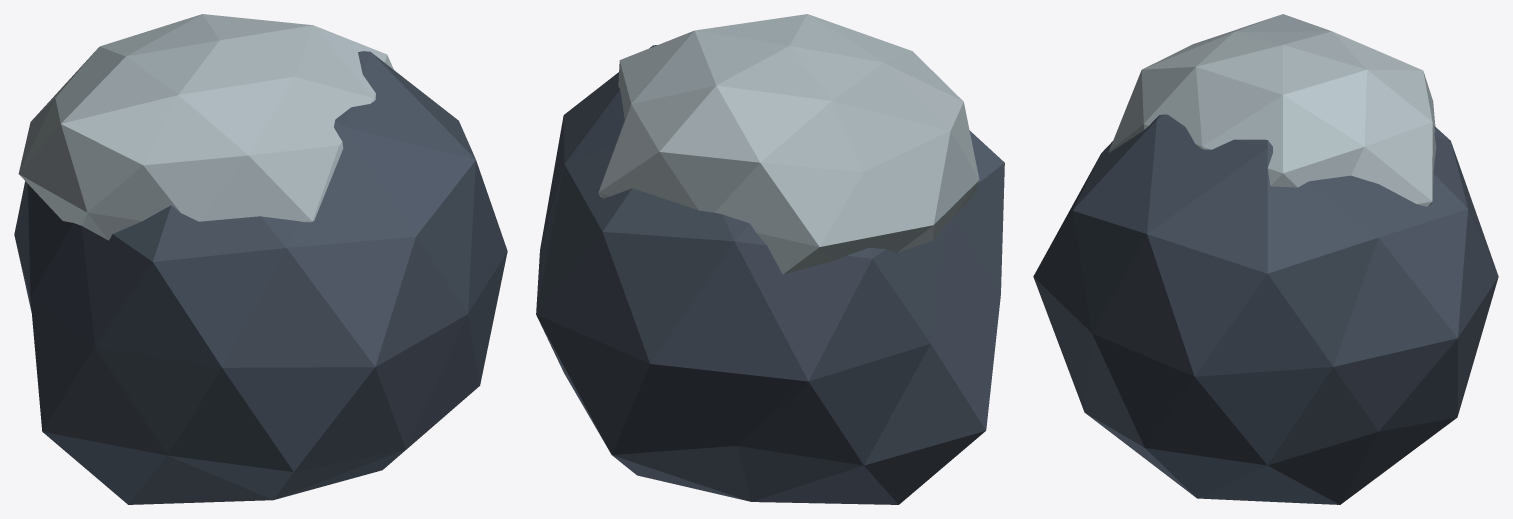
Rendered from glacier-rock-1.glb.
3 views of the same model, side by side, from view 1: azimuth 30°, elevation 25°; view 2: azimuth 150°, elevation 25°; view 3: azimuth 270°, elevation 25° (orthographic). The views are drawn at different scales.
Parts seen in each view (by area): view 1: glacier-rock-1; view 2: glacier-rock-1; view 3: glacier-rock-1.
Boxes of the visible parts, <box> form: glacier-rock-1: <box>14,14,507,504</box>; glacier-rock-1: <box>536,14,1004,504</box>; glacier-rock-1: <box>1033,14,1498,504</box>.
Bounding box in the file's own units: 1.5 × 1.54 × 1.51.
